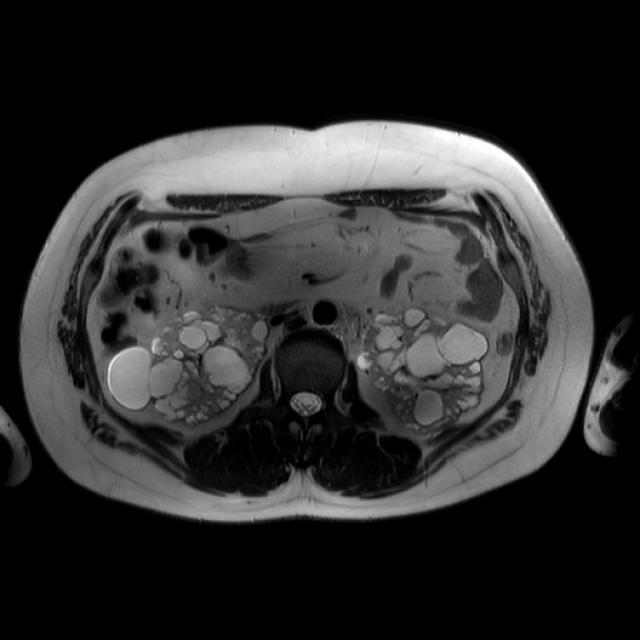sag: (108, 307, 269, 424)
sol: (358, 309, 490, 435)
